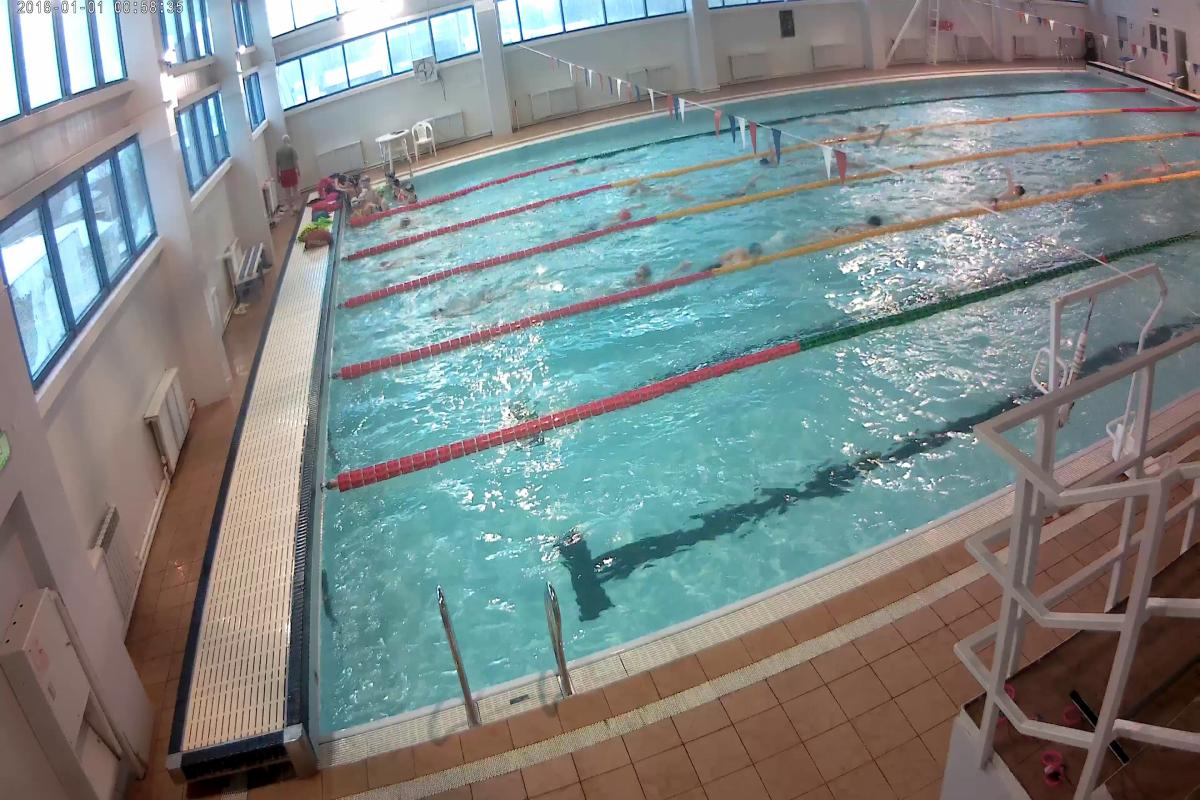swimmer: (705, 235, 778, 269), (820, 212, 893, 238), (979, 176, 1041, 206)
